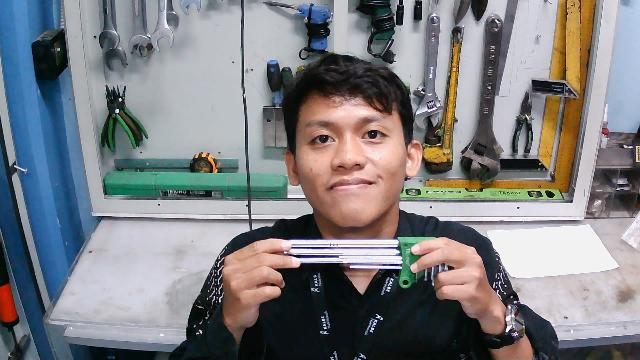kunci_l_bintang: (260, 231, 448, 293)
